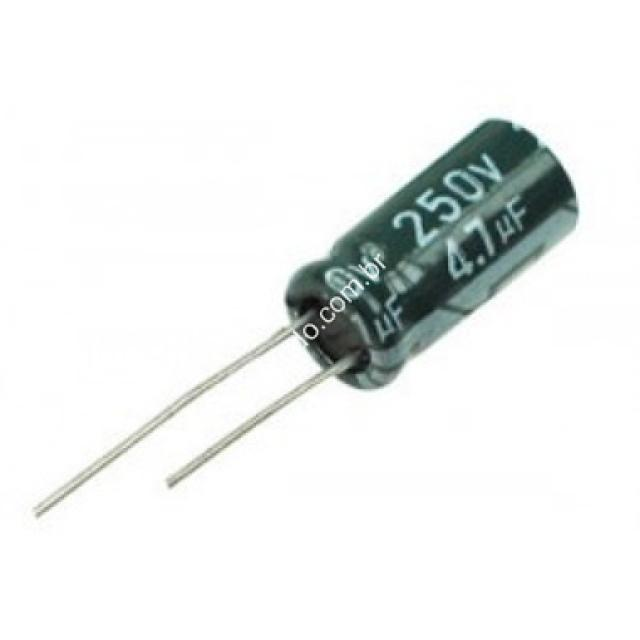Capacitor: (32, 120, 581, 519)
